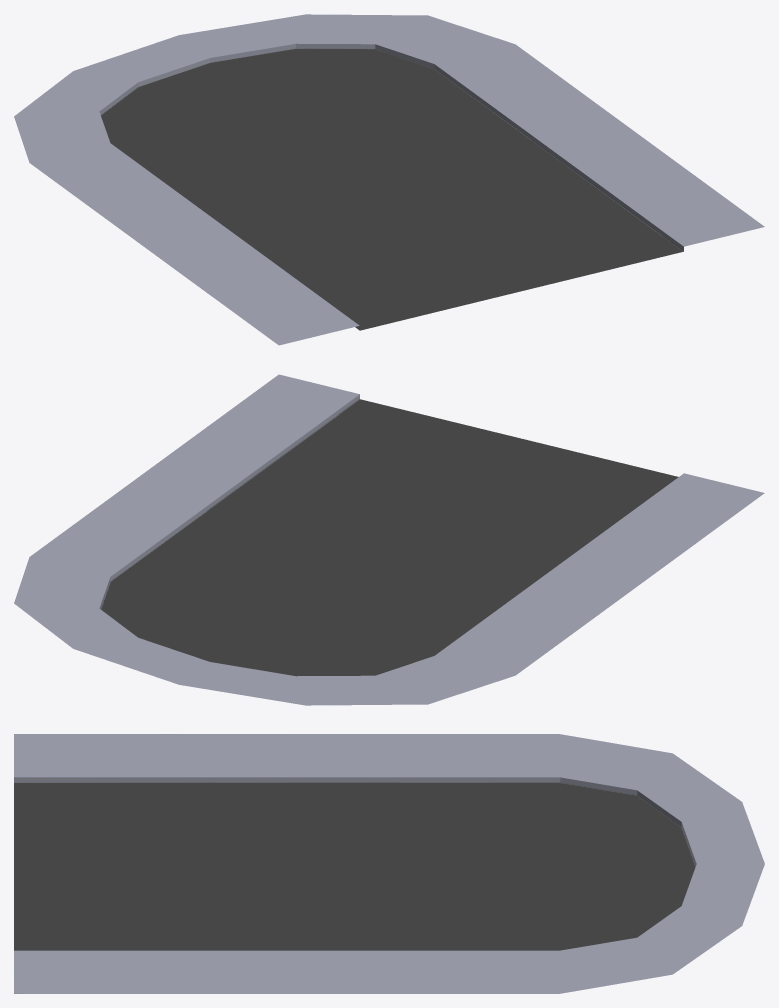
The model's file is End.fbx.
The picture shows the model from 3 angles, top to bottom: view 1: azimuth 30°, elevation 25°; view 2: azimuth 150°, elevation 25°; view 3: azimuth 270°, elevation 25°; orthographic projection. The views are drawn at different scales.
Visible parts, largest first — view 1: End; view 2: End; view 3: End.
Boxes of the visible parts, box(x1,y1,x2,y2) form: End: box(14, 14, 764, 345); End: box(14, 374, 764, 705); End: box(14, 734, 764, 993).
Size of the model in its own units: 9 by 0.0877 by 11.
